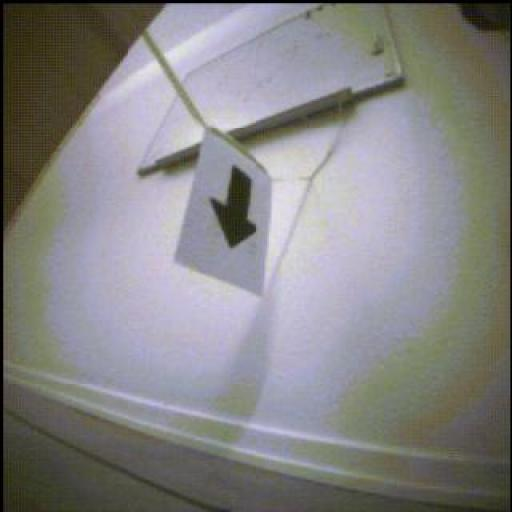Arrow: (211, 167, 257, 249)
